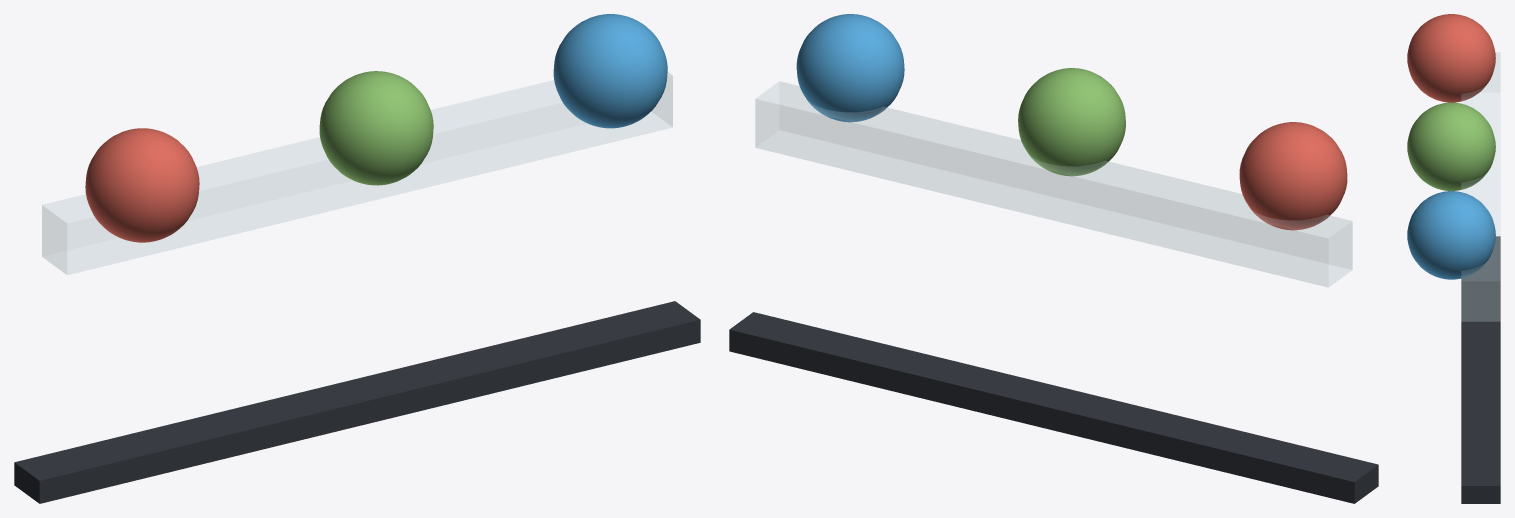
Rendered from chem-acids-ph-scale.glb.
3 views of the same model, side by side, from view 1: azimuth 30°, elevation 25°; view 2: azimuth 150°, elevation 25°; view 3: azimuth 270°, elevation 25° (orthographic). The views are drawn at different scales.
Visible parts, largest first — view 1: acid-base-lab-bench, ph-scale-bar-acid-to-base, acid-side-low-ph-red, neutral-seven-green, base-side-high-ph-blue; view 2: ph-scale-bar-acid-to-base, acid-base-lab-bench, base-side-high-ph-blue, acid-side-low-ph-red, neutral-seven-green; view 3: acid-base-lab-bench, neutral-seven-green, base-side-high-ph-blue, acid-side-low-ph-red, ph-scale-bar-acid-to-base.
Boxes of the visible parts, box(x1,y1,x2,y2) form: acid-base-lab-bench: box(14, 301, 700, 503); ph-scale-bar-acid-to-base: box(42, 72, 672, 274); acid-side-low-ph-red: box(85, 128, 199, 242); neutral-seven-green: box(319, 71, 433, 185); base-side-high-ph-blue: box(553, 14, 667, 128); ph-scale-bar-acid-to-base: box(755, 81, 1352, 287); acid-base-lab-bench: box(729, 312, 1378, 503); base-side-high-ph-blue: box(796, 14, 904, 122); acid-side-low-ph-red: box(1239, 122, 1347, 230); neutral-seven-green: box(1018, 68, 1125, 176); acid-base-lab-bench: box(1461, 236, 1500, 503); neutral-seven-green: box(1407, 102, 1495, 190); base-side-high-ph-blue: box(1407, 191, 1495, 279); acid-side-low-ph-red: box(1407, 14, 1495, 102); ph-scale-bar-acid-to-base: box(1461, 52, 1500, 321).
Size of what is drawn, in the model's own units: 2.4 by 1.22 by 0.38.
